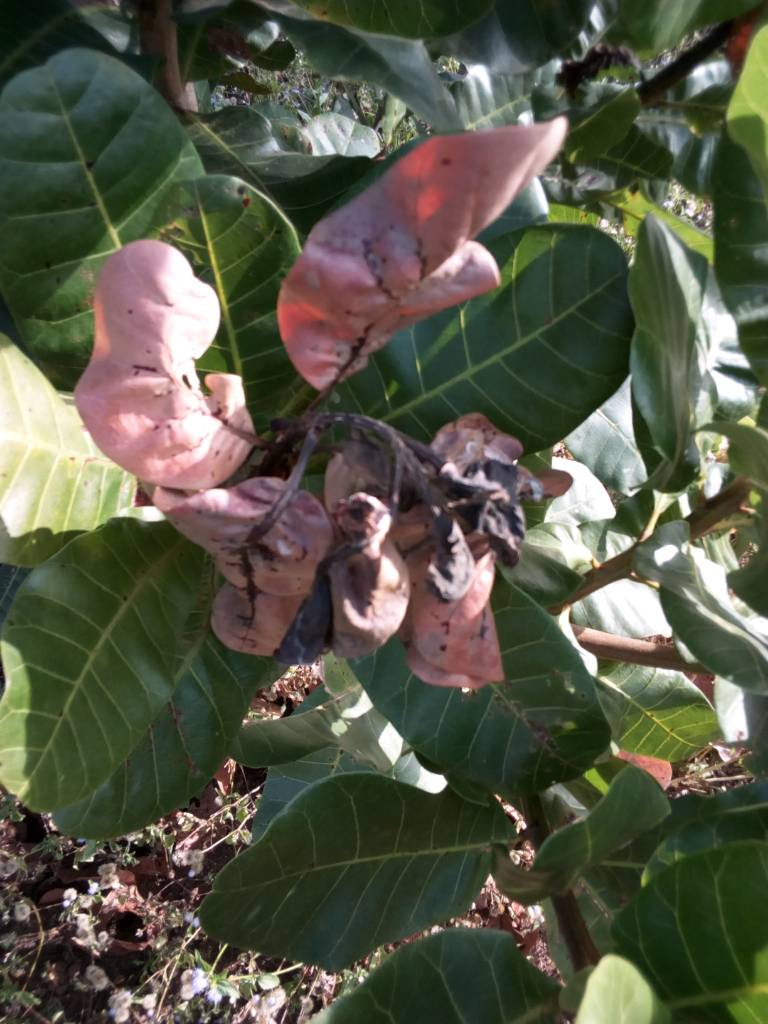Dessèchement des bourgeons: (336, 400, 527, 650)
